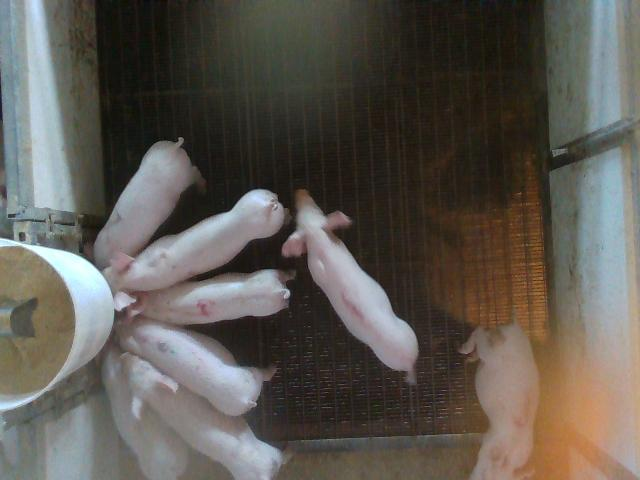pig-1: (282, 189, 419, 383)
pig-3: (459, 320, 539, 478)
pig-4: (114, 269, 295, 325)
